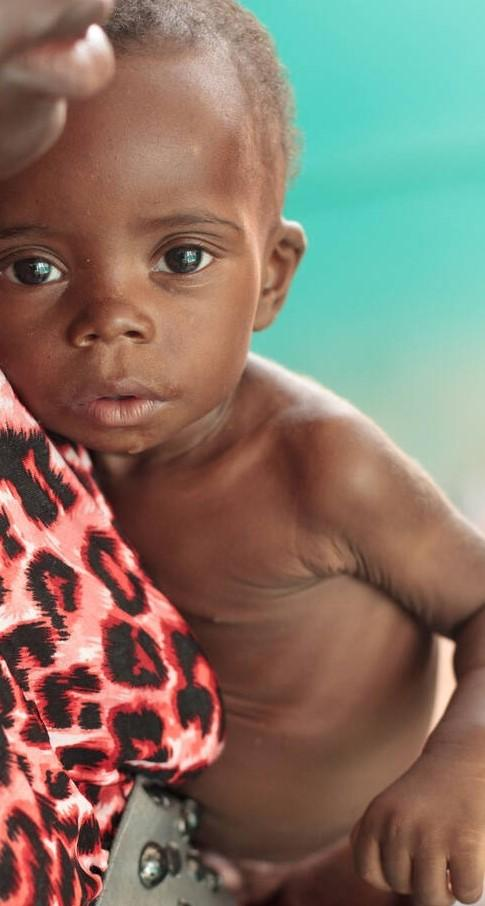Stunting: (0, 0, 340, 520)
